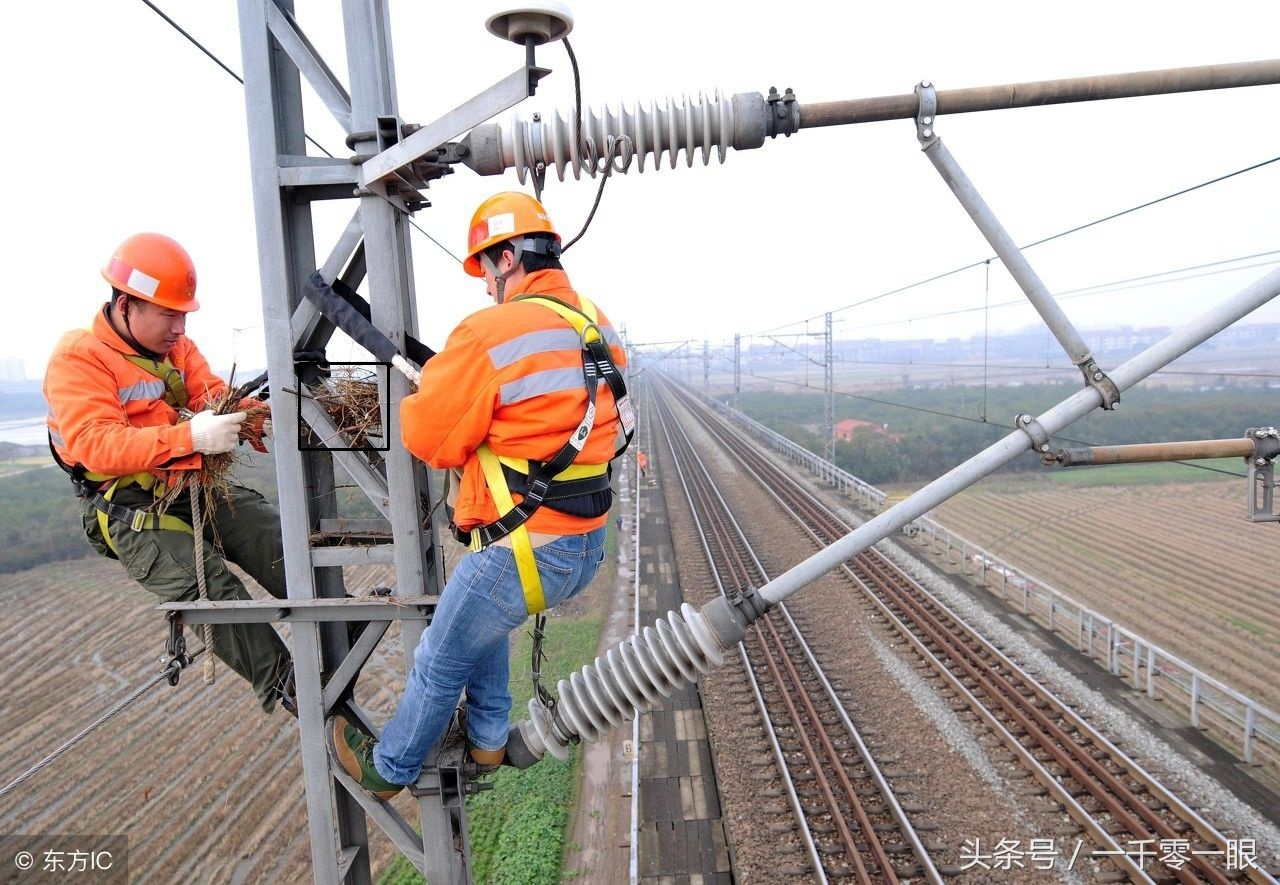bird-nest: (321, 367, 382, 427)
